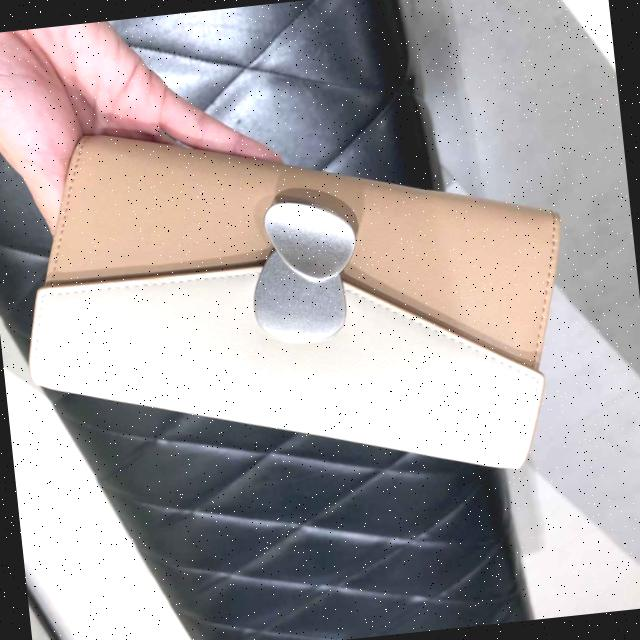handbag: (3, 74, 590, 521)
